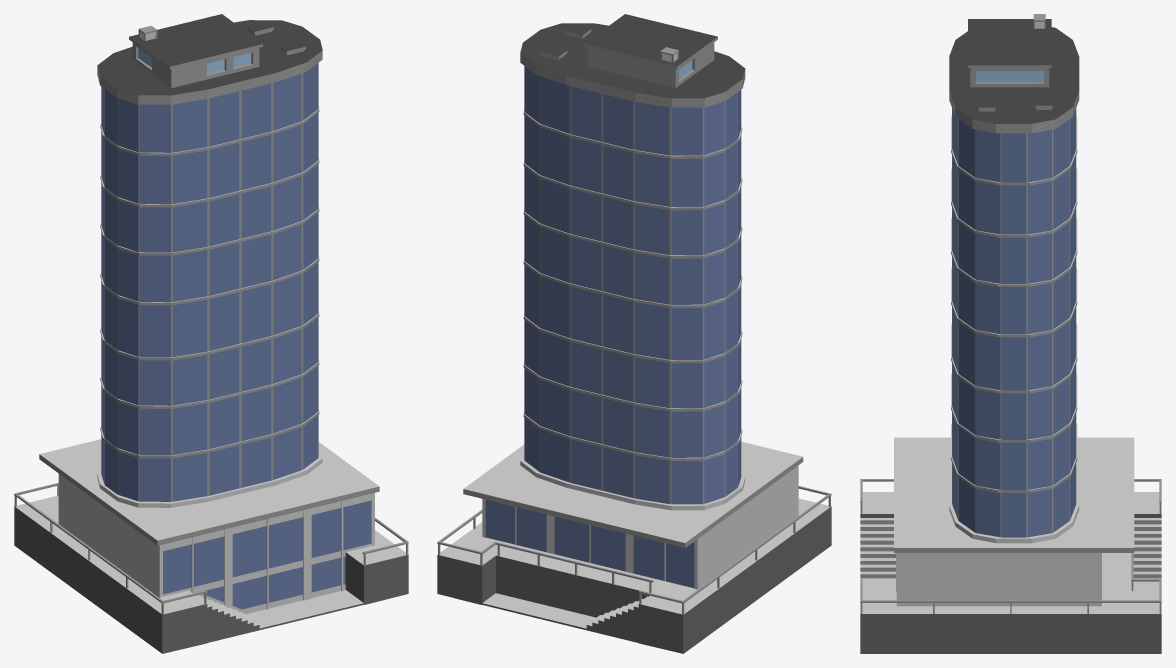
File: business_center_009.glb
3 renders of one model, left to right at view 1: azimuth 30°, elevation 25°; view 2: azimuth 150°, elevation 25°; view 3: azimuth 270°, elevation 25°, orthographic.
Visible parts, largest first — view 1: business_center_009; view 2: business_center_009; view 3: business_center_009.
Part boxes in pixels (left/top/right/bottom): business_center_009: left=14, top=14, right=408, bottom=653; business_center_009: left=437, top=14, right=831, bottom=653; business_center_009: left=860, top=14, right=1161, bottom=653.
Bounding box in the file's own units: 14.34 × 30.18 × 14.95.
Materials: 1 (1 with a texture image).
